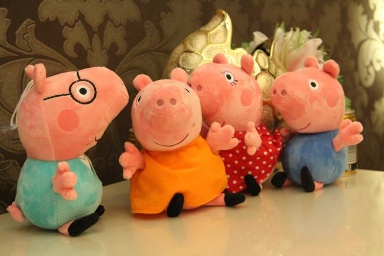Peppa: (188, 54, 284, 198)
